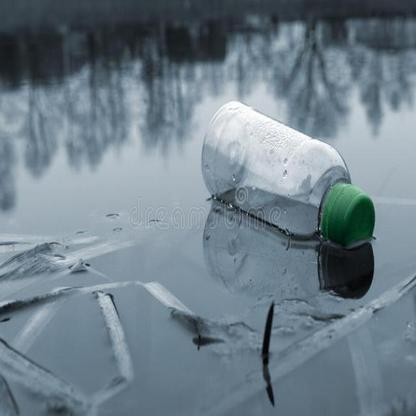plastic bottle: (201, 100, 376, 246)
